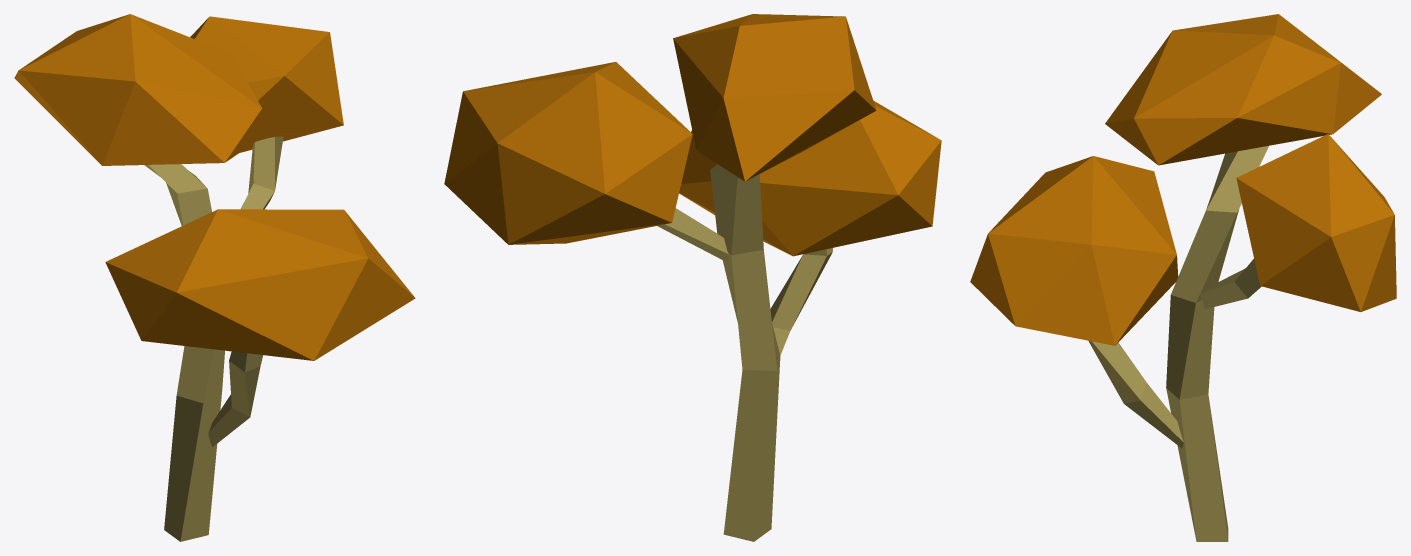
File: Tree_Fall_8.fbx
The picture shows the model from 3 angles, left to right: view 1: azimuth 30°, elevation 25°; view 2: azimuth 150°, elevation 25°; view 3: azimuth 270°, elevation 25°; orthographic projection. The views are drawn at different scales.
Parts seen in each view (by area): view 1: Leaves, Leaves.002, Leaves.001, Trunk, Trunk.002, Trunk.001; view 2: Leaves.001, Leaves.002, Leaves, Trunk, Trunk.002, Trunk.001; view 3: Leaves, Leaves.002, Leaves.001, Trunk, Trunk.002, Trunk.001.
Part boxes in pixels (bbox=[...]): Leaves: bbox=[105, 209, 415, 360]; Leaves.002: bbox=[14, 14, 273, 165]; Leaves.001: bbox=[190, 16, 343, 152]; Trunk: bbox=[144, 164, 224, 541]; Trunk.002: bbox=[208, 351, 263, 446]; Trunk.001: bbox=[241, 136, 283, 209]; Leaves.001: bbox=[444, 62, 692, 244]; Leaves.002: bbox=[673, 14, 876, 181]; Leaves: bbox=[679, 100, 941, 256]; Trunk: bbox=[710, 164, 780, 541]; Trunk.002: bbox=[770, 248, 832, 355]; Trunk.001: bbox=[657, 208, 728, 263]; Leaves: bbox=[970, 156, 1178, 345]; Leaves.002: bbox=[1105, 14, 1381, 165]; Leaves.001: bbox=[1236, 134, 1396, 311]; Trunk: bbox=[1166, 146, 1268, 541]; Trunk.002: bbox=[1088, 340, 1183, 448]; Trunk.001: bbox=[1200, 259, 1261, 308].
Size of the model in its own units: 225 by 316 by 251.
